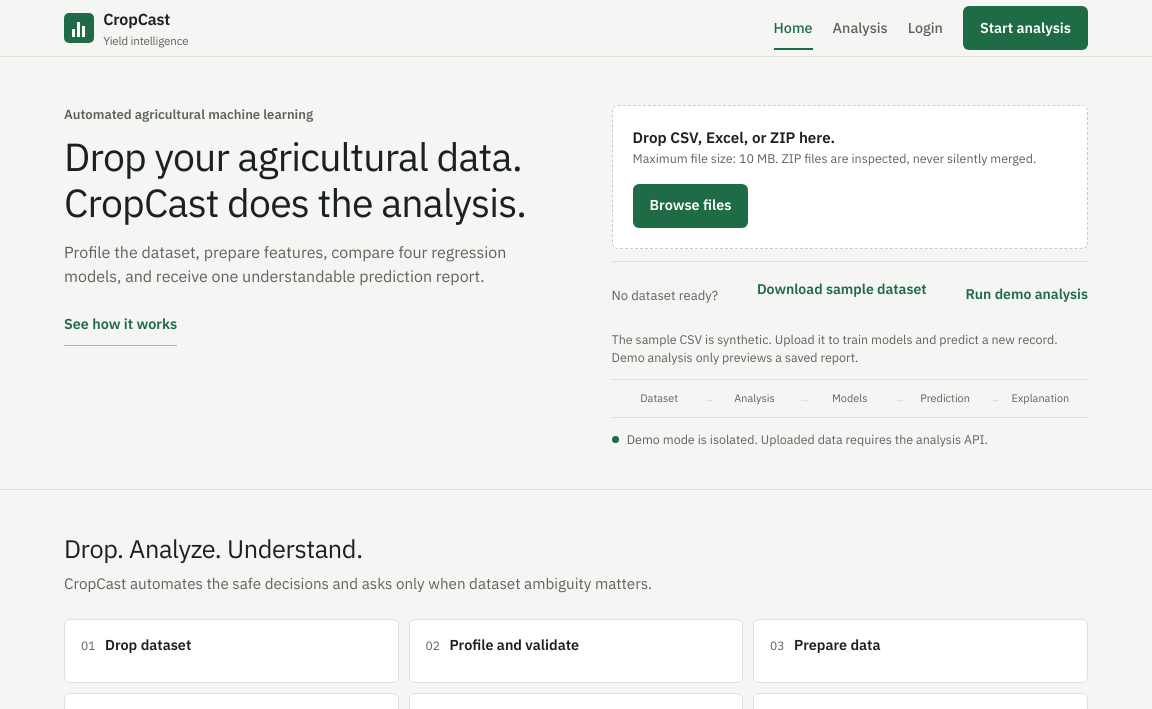
Test: CropCast routes › navigates from the landing page into automated analysis
Check: the heading "Drop your agricultural data. CropCast does the analysis." is shown, box [64,134,534,225]
Step 1. Click the link "Analysis" → (860, 28), box [833,18,888,37]
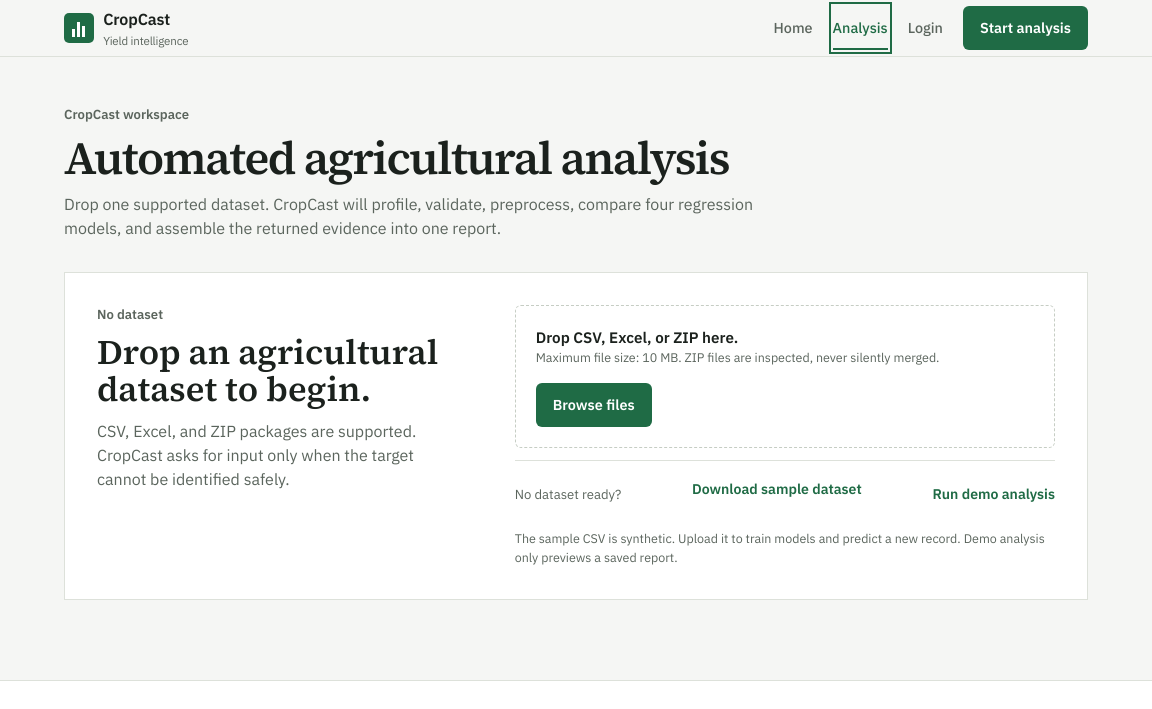
Check: the heading "Automated agricultural analysis" is shown, box [64,126,729,189]
